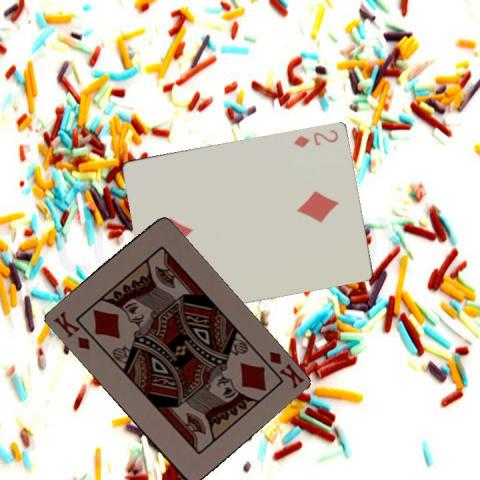2d: (291, 126, 340, 149)
Kd: (50, 308, 92, 351), (265, 348, 306, 391)
